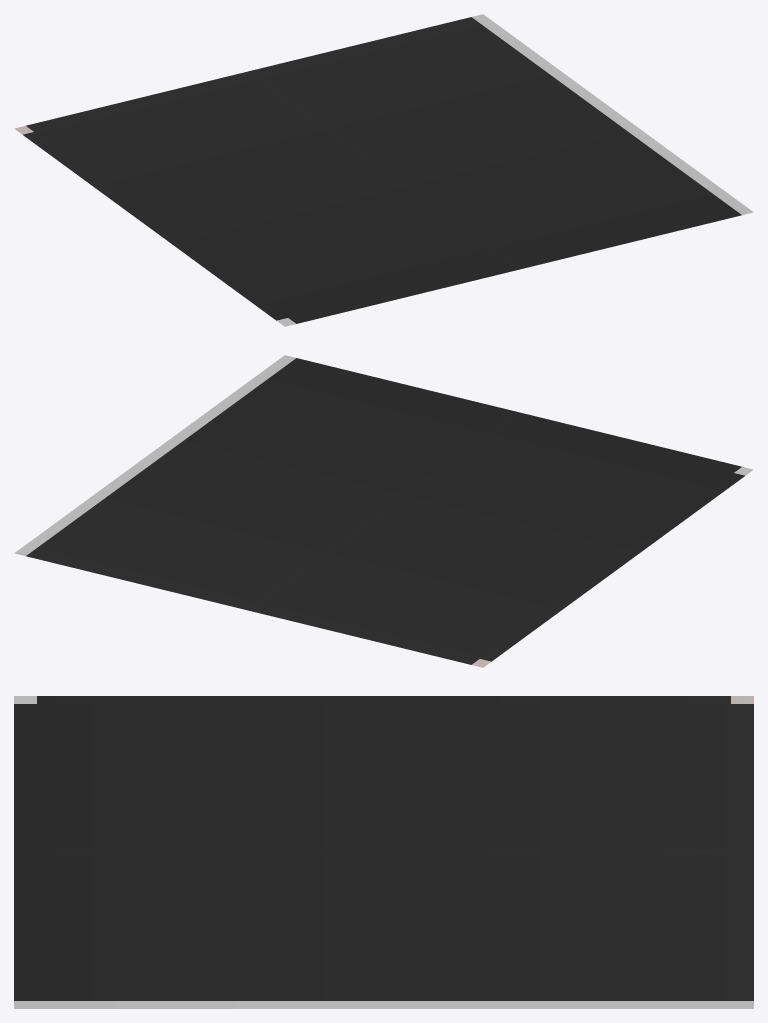
File: road_tile_3int.glb
3 renders of one model, top to bottom at view 1: azimuth 30°, elevation 25°; view 2: azimuth 150°, elevation 25°; view 3: azimuth 270°, elevation 25°, orthographic. The views are drawn at different scales.
Parts seen in each view (by area): view 1: Plane; view 2: Plane; view 3: Plane.
Boxes of the visible parts, box(x1,y1,x2,y2) form: Plane: box(14, 14, 753, 326); Plane: box(14, 355, 753, 667); Plane: box(14, 696, 753, 1008).
Bounding box in the file's own units: 4 × 0 × 4.
1 material, 1 textured.
